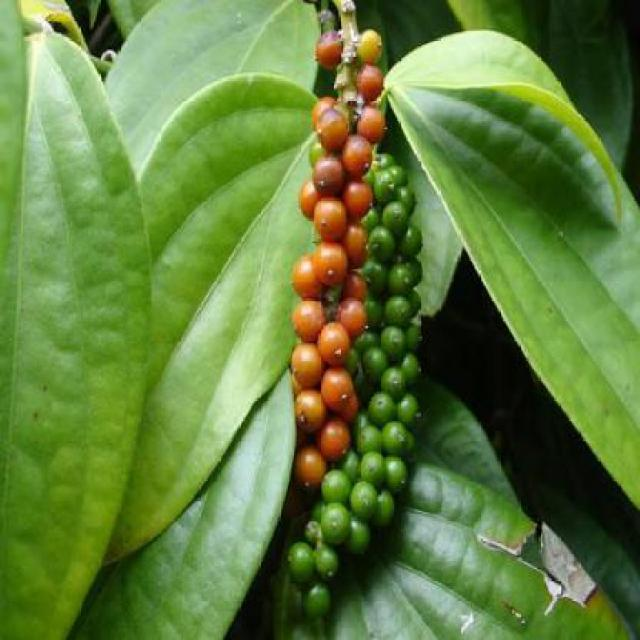RIPE: (289, 16, 356, 467)
UNRIPE: (361, 159, 419, 528)
